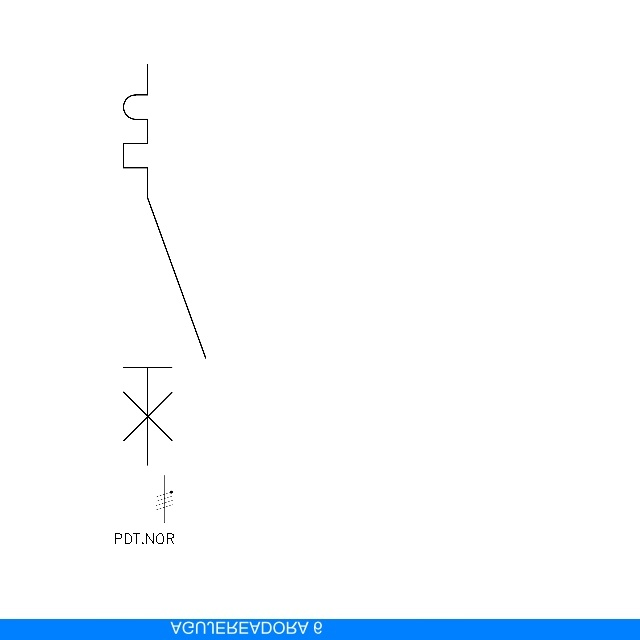interruptor_termomagnetico: (113, 54, 216, 475)
